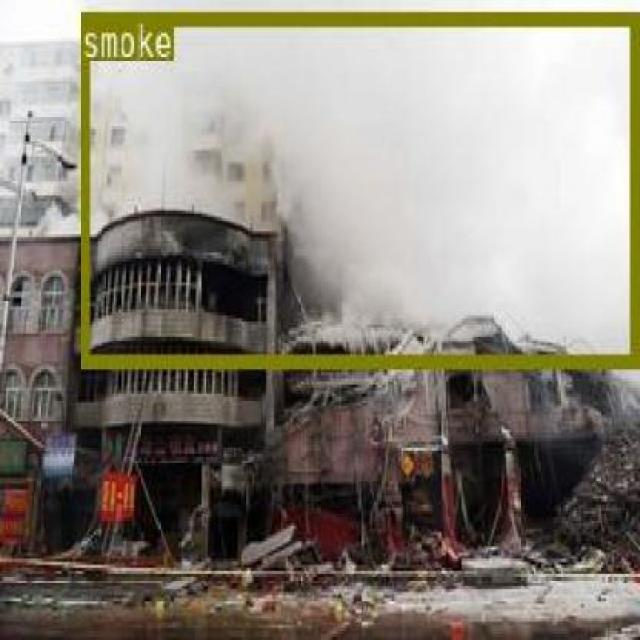Smoke: (78, 10, 636, 364)
